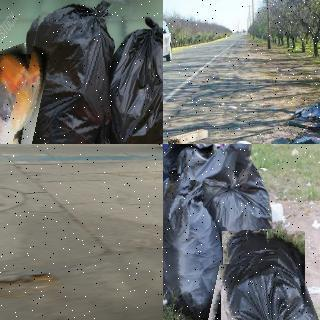Garbage: (16, 0, 125, 144), (163, 178, 234, 320), (212, 225, 313, 320), (101, 13, 163, 144), (203, 170, 277, 265), (163, 144, 259, 199), (0, 48, 52, 144)
